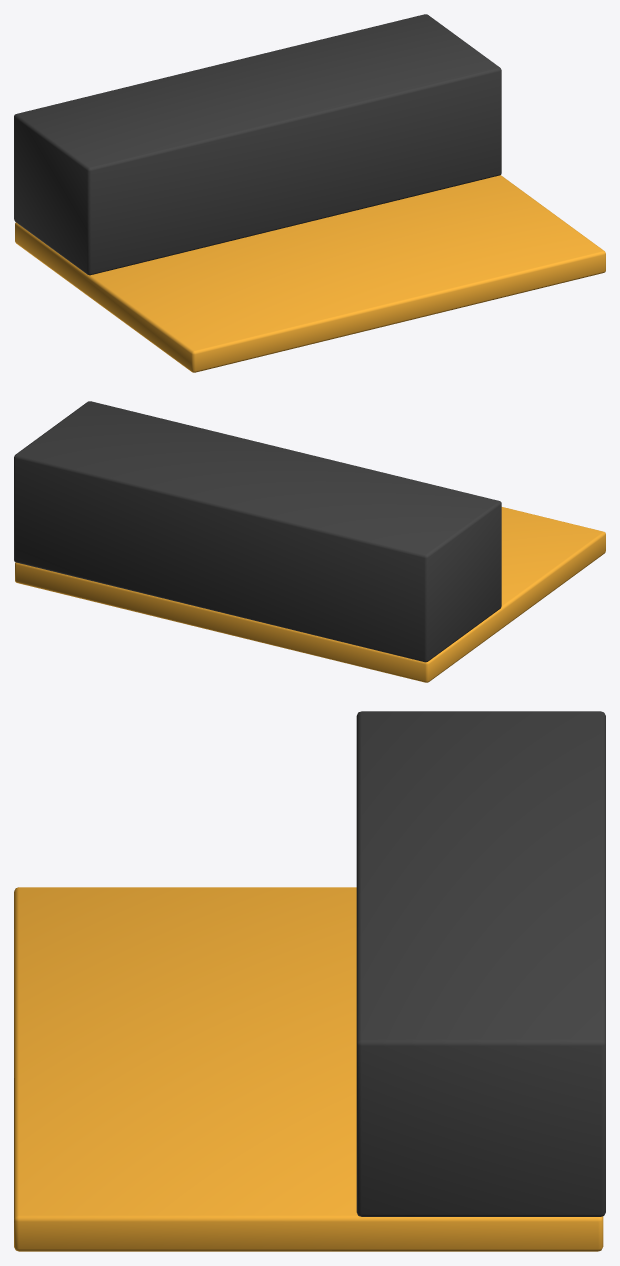
Rendered from Map_Floor.fbx.
3 renders of one model, top to bottom at view 1: azimuth 30°, elevation 25°; view 2: azimuth 150°, elevation 25°; view 3: azimuth 270°, elevation 25°, orthographic. The views are drawn at different scales.
Parts seen in each view (by area): view 1: Floor; view 2: Floor; view 3: Floor.
Part boxes in pixels (left/top/right/bottom): Floor: left=14, top=14, right=605, bottom=372; Floor: left=14, top=401, right=605, bottom=682; Floor: left=14, top=711, right=605, bottom=1251.
Bounding box in the file's own units: 3166 × 942 × 2386.
